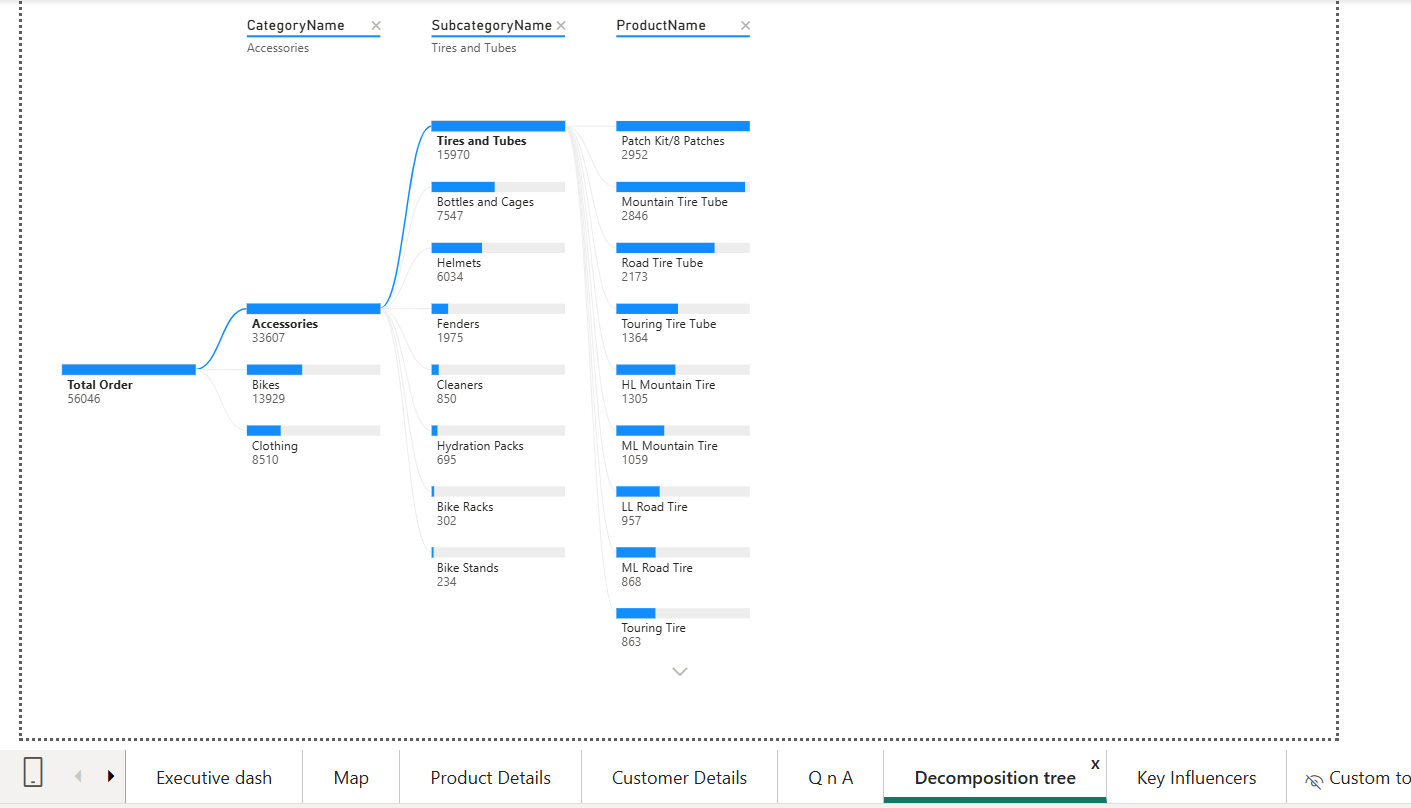

The dashboard page shown, as its layout file describes it:
{"tool":"powerbi","page":{"name":"Decomposition tree","canvas":[1280,720],"ordinal":5},"visuals":[{"type":"decompositionTreeVisual","fields":{"Analyze":["Measure Table.Total Order"],"ExplainBy":["Product Categories Lookup.CategoryName","Product Subcategories Lookup.SubcategoryName","Product Lookup.ProductName"]},"box":[9.5,0,1271.1,699.3],"z":0}]}

Visuals, with their boxes on the page's 1280x720 design canvas (x1, y1, x2, y2). These are canvas units, not pixel positions in the 1411x808 screenshot, which may show the page scaled, cropped or inside an application window:
decompositionTreeVisual - Measure Table.Total Order x Product Categories Lookup.CategoryName: BBox(10, 0, 1281, 699)
